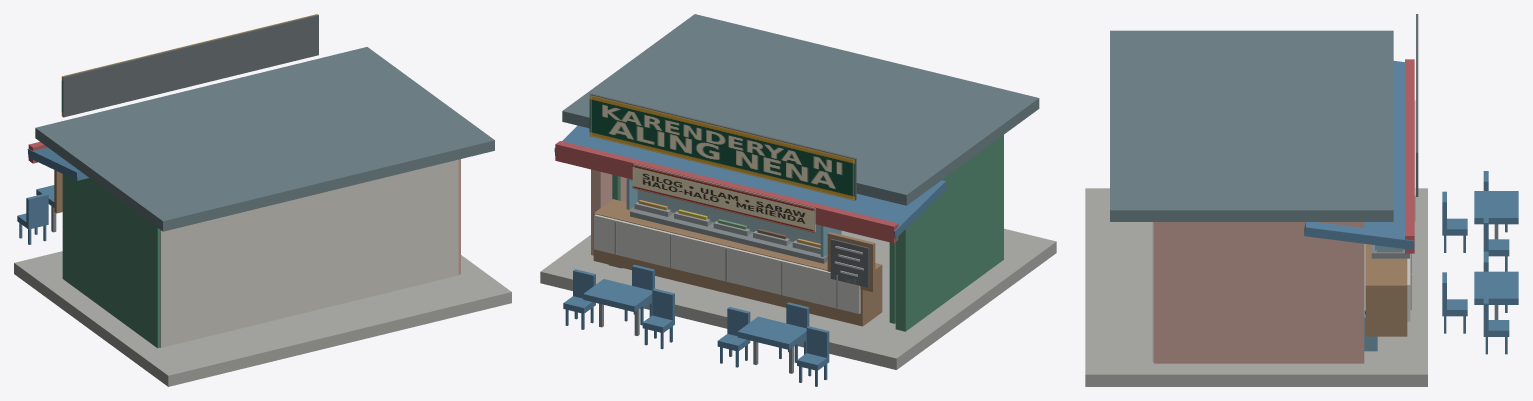
Rendered from Karenderya_Ni_Aling_Nena.glb.
3 views of the same model, side by side, from view 1: azimuth 30°, elevation 25°; view 2: azimuth 150°, elevation 25°; view 3: azimuth 270°, elevation 25° (orthographic). The views are drawn at different scales.
Parts seen in each view (by area): view 1: 0005_Eatery_Roof, 0002_Karenderya_Back_Wall, 0001_Eatery_Concrete_Pad, 0003_Karenderya_Left_Wall, 0013_Eatery_Main_Sign_Backing, 0006_Front_Awning, 0052_Plastic_Chair_Back; view 2: 0005_Eatery_Roof, 0001_Eatery_Concrete_Pad, 0003_Karenderya_Left_Wall, 0014_Eatery_Main_Sign_TexturedFace, 0018_Counter_Tile_Front, 0017_Karenderya_Counter, 0006_Front_Awning, 0016_Eatery_Menu_Sign_TexturedFace, 0007_Awning_Front_Fascia, 0035_Display_Glass_Front, 0024_Food_Display_Base, 0065_Dining_Table_Top (+12 smaller); view 3: 0005_Eatery_Roof, 0004_Karenderya_Right_Wall, 0001_Eatery_Concrete_Pad, 0006_Front_Awning, 0017_Karenderya_Counter, 0007_Awning_Front_Fascia, 0065_Dining_Table_Top, 0044_Dining_Table_Top, 0013_Eatery_Main_Sign_Backing, 0080_Plastic_Chair_Seat, 0059_Plastic_Chair_Seat, 0053_Plastic_Chair_Seat (+1 smaller).
Part boxes in pixels (x1,y1,x2,y2): 0005_Eatery_Roof: (35,47,494,231); 0002_Karenderya_Back_Wall: (160,159,458,347); 0001_Eatery_Concrete_Pad: (14,251,511,386); 0003_Karenderya_Left_Wall: (62,174,160,348); 0013_Eatery_Main_Sign_Backing: (62,14,318,117); 0006_Front_Awning: (27,147,88,180); 0052_Plastic_Chair_Back: (26,193,48,224); 0005_Eatery_Roof: (562,14,1039,205); 0001_Eatery_Concrete_Pad: (540,228,1056,369); 0003_Karenderya_Left_Wall: (895,135,1003,331); 0014_Eatery_Main_Sign_TexturedFace: (589,95,854,200); 0018_Counter_Tile_Front: (594,214,860,313); 0017_Karenderya_Counter: (593,199,882,326); 0006_Front_Awning: (554,125,946,238); 0016_Eatery_Menu_Sign_TexturedFace: (632,164,814,232); 0007_Awning_Front_Fascia: (555,141,898,243); 0035_Display_Glass_Front: (637,189,820,243); 0024_Food_Display_Base: (630,208,827,263); 0065_Dining_Table_Top: (583,279,652,312); 0005_Eatery_Roof: (1110,30,1393,221); 0004_Karenderya_Right_Wall: (1154,222,1364,363); 0001_Eatery_Concrete_Pad: (1085,188,1427,386); 0006_Front_Awning: (1304,61,1414,249); 0017_Karenderya_Counter: (1365,244,1407,336); 0007_Awning_Front_Fascia: (1405,59,1414,253); 0065_Dining_Table_Top: (1474,271,1518,304); 0044_Dining_Table_Top: (1474,191,1518,224); 0013_Eatery_Main_Sign_Backing: (1416,14,1418,196); 0080_Plastic_Chair_Seat: (1442,299,1467,316); 0059_Plastic_Chair_Seat: (1442,218,1467,235); 0053_Plastic_Chair_Seat: (1483,239,1509,256).
Bounding box in the file's own units: 9 × 4.75 × 8.85.
Materials: 2 (2 with a texture image).
